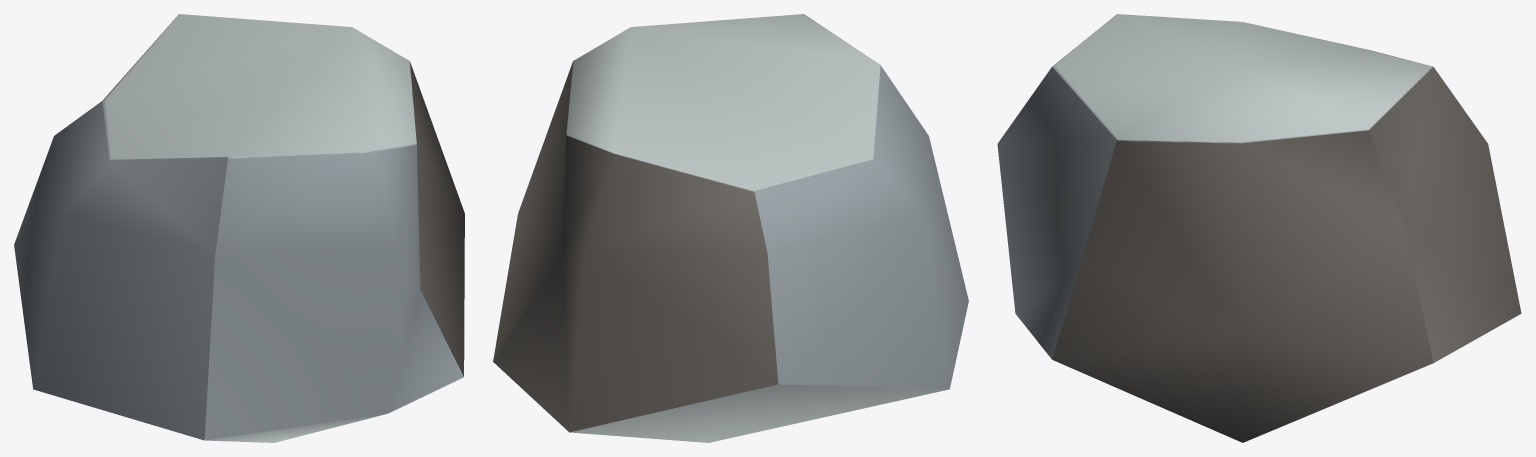
The model's file is stone_02.fbx.
The picture shows the model from 3 angles, left to right: view 1: azimuth 30°, elevation 25°; view 2: azimuth 150°, elevation 25°; view 3: azimuth 270°, elevation 25°; orthographic projection.
Parts seen in each view (by area): view 1: pCube2; view 2: pCube2; view 3: pCube2.
Part boxes in pixels (x1,y1,x2,y2): pCube2: (14, 14, 464, 442); pCube2: (493, 14, 968, 442); pCube2: (997, 14, 1521, 442).
Size of the model in its own units: 1.31 by 1.15 by 1.37.
